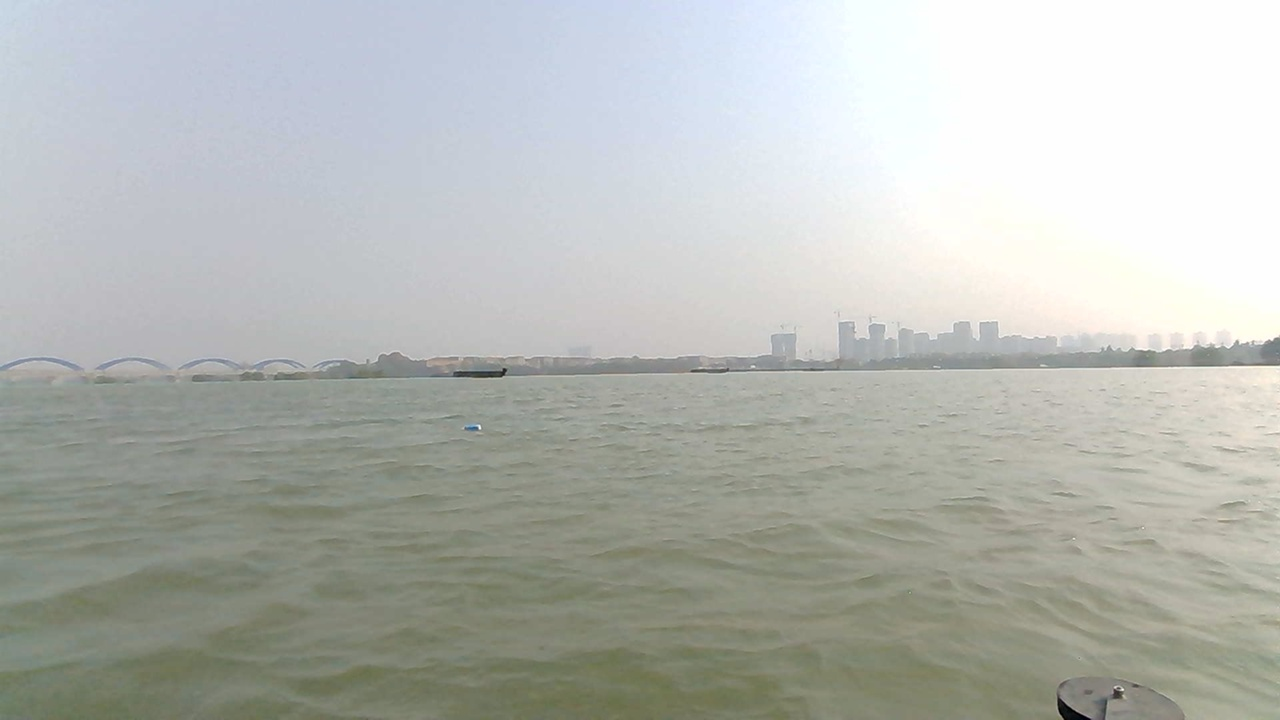bottle: (458, 421, 488, 436)
